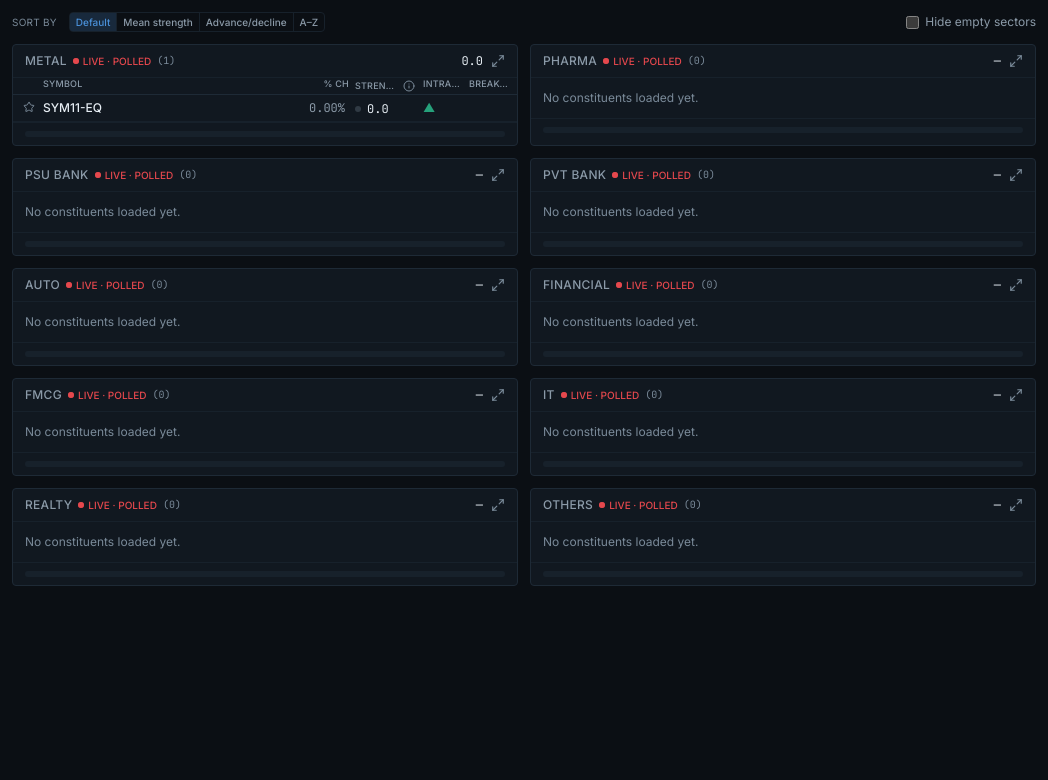
SectorGrid › "hide empty sectors" removes cards with zero constituents
Expected: the button "PHARMA" is shown, [543,53,597,69]
Click the checkbox labelled "Hide empty sectors": (913, 22) [906,16,919,28]
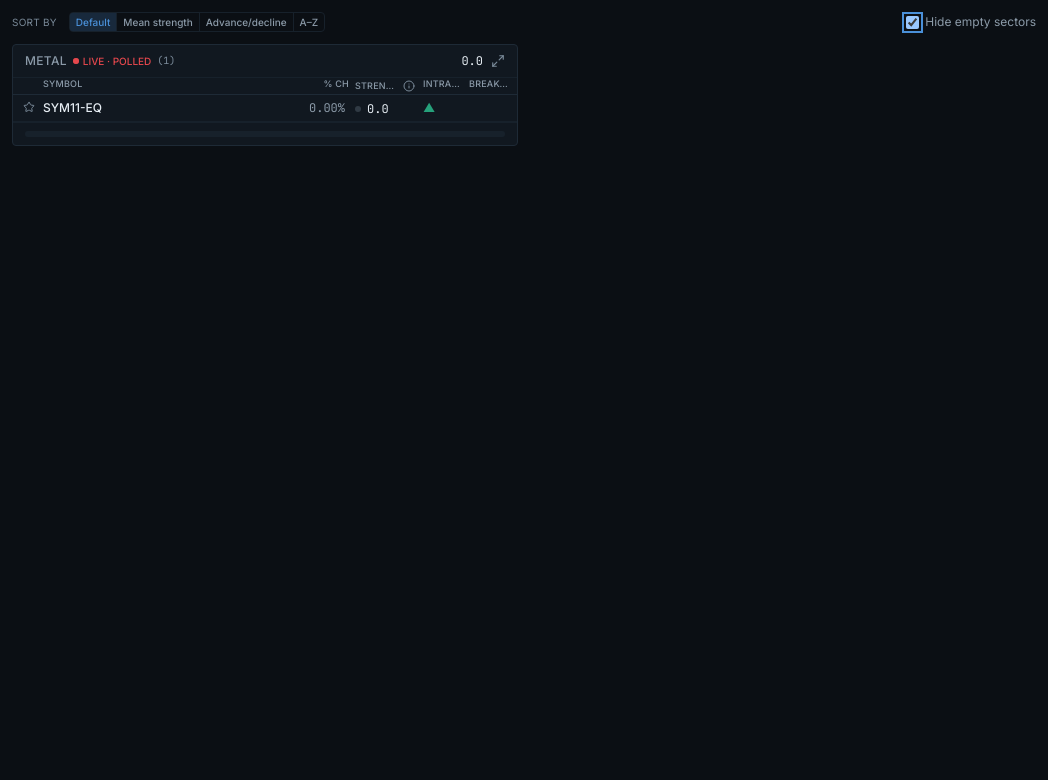
Expected: the button "METAL" is shown, [25,53,67,69]
Result: the button "PHARMA" is gone
